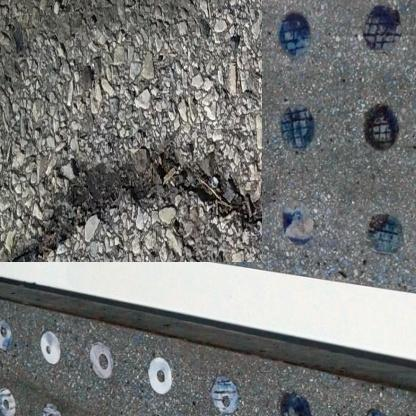Cracks: (0, 133, 242, 242)
